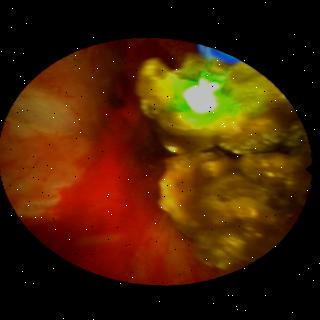laser: (179, 71, 228, 114)
stone: (136, 51, 310, 266)
tissue: (10, 37, 203, 279)
